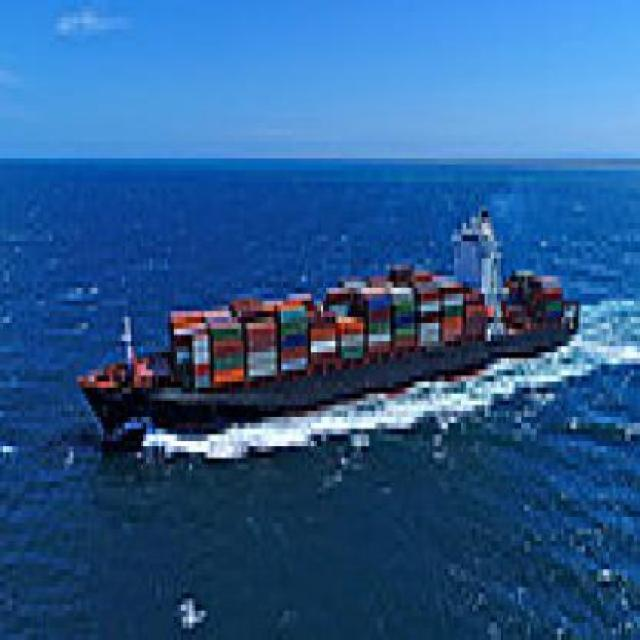container: (71, 195, 589, 459)
